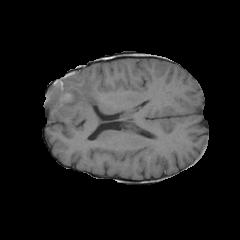glioma: (43, 70, 111, 127)
